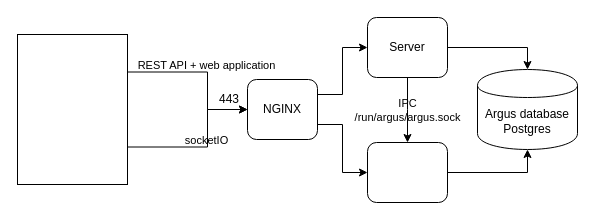
This 595x220 diagram has some shape labels left out. Here are the shapes that lost their labels. From the top down, the centre of each, then its label:
[72,109]: Web application
[407,172]: Monitor
